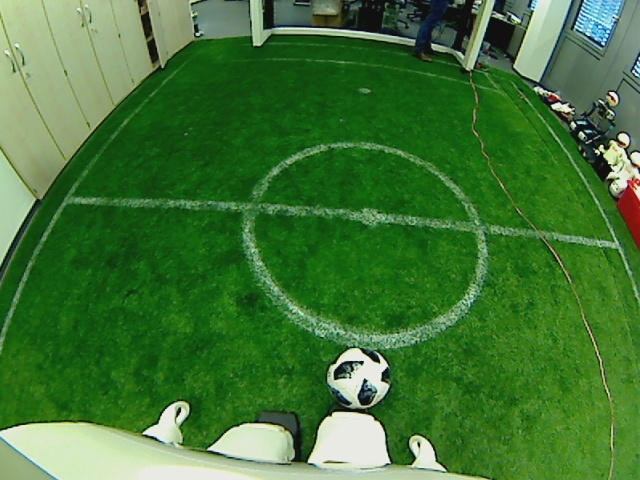ball: (324, 343, 392, 410)
